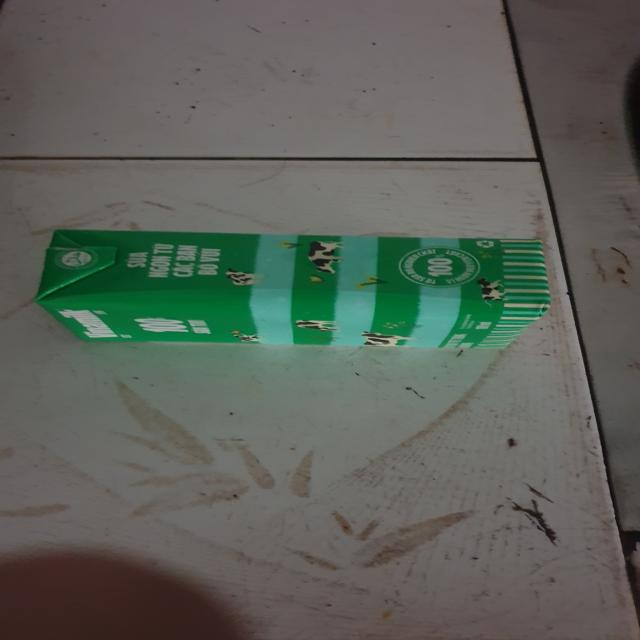Vina: (36, 227, 563, 356)
